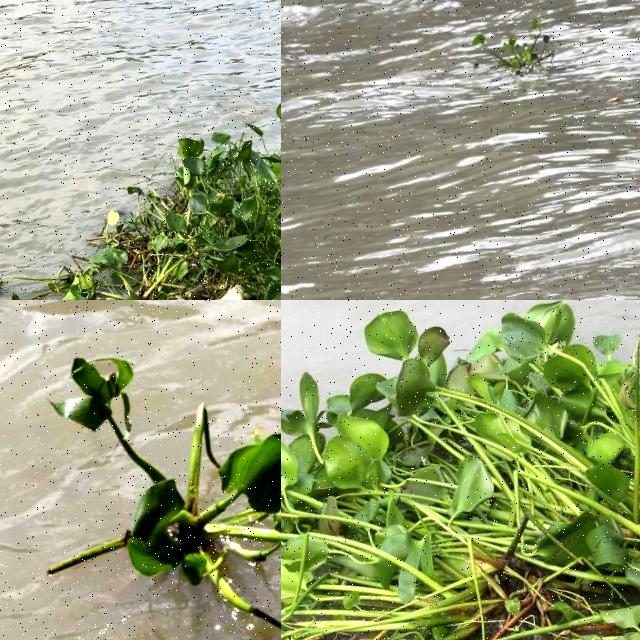water-hyacinth: (282, 301, 640, 640), (38, 355, 282, 640), (12, 108, 282, 301), (473, 25, 559, 82)
